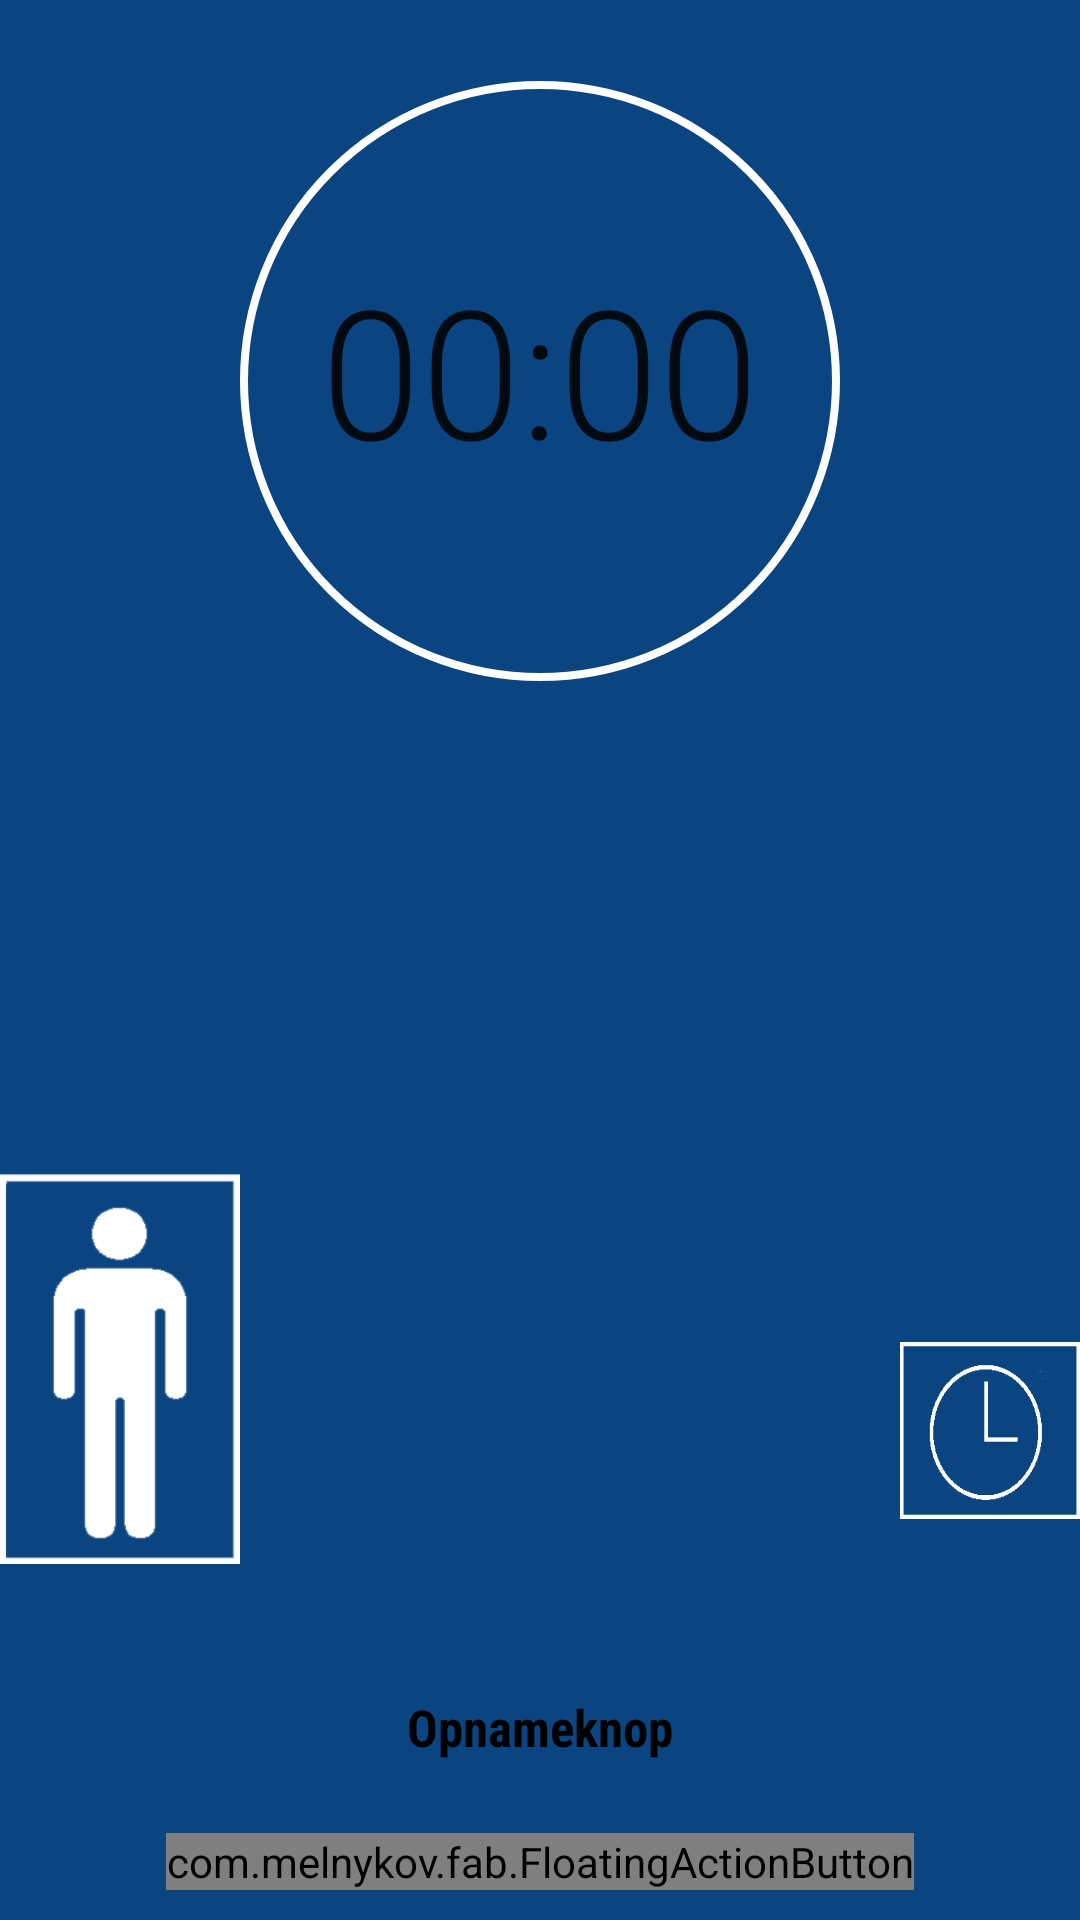

Icons on this 1080px x 1920px Android screen, each with its box as (x1, y1, x2, y2):
time: (900, 1342, 1080, 1519)
